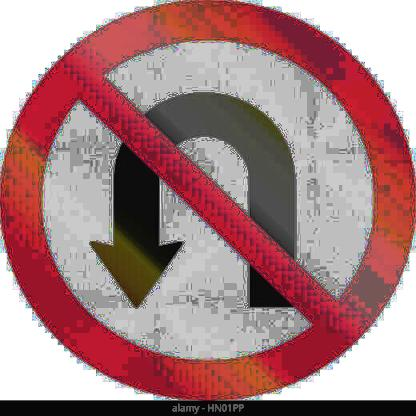No U-turn: (12, 3, 404, 398)
